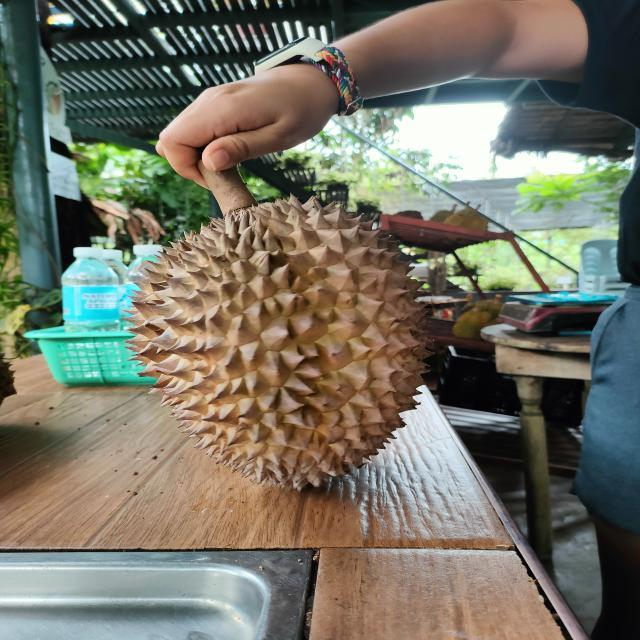mature: (128, 198, 428, 490)
